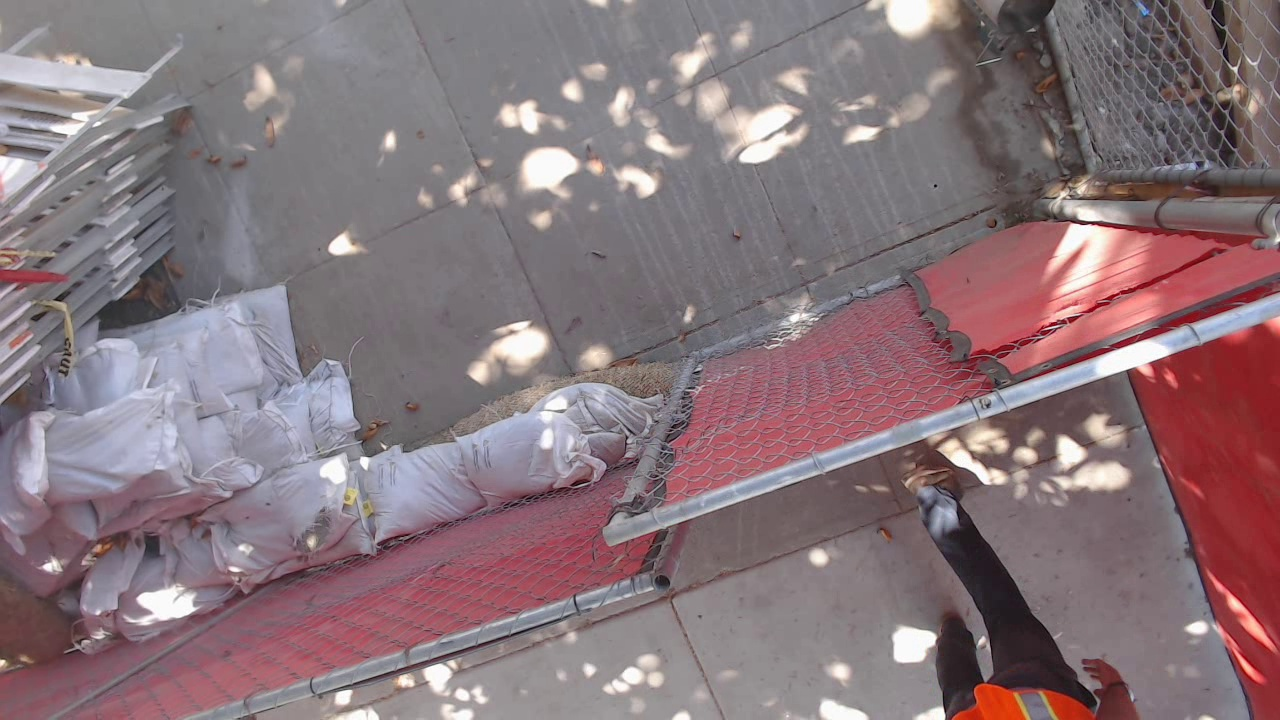person: (275, 125, 539, 398)
safetyvest: (296, 159, 528, 327)
